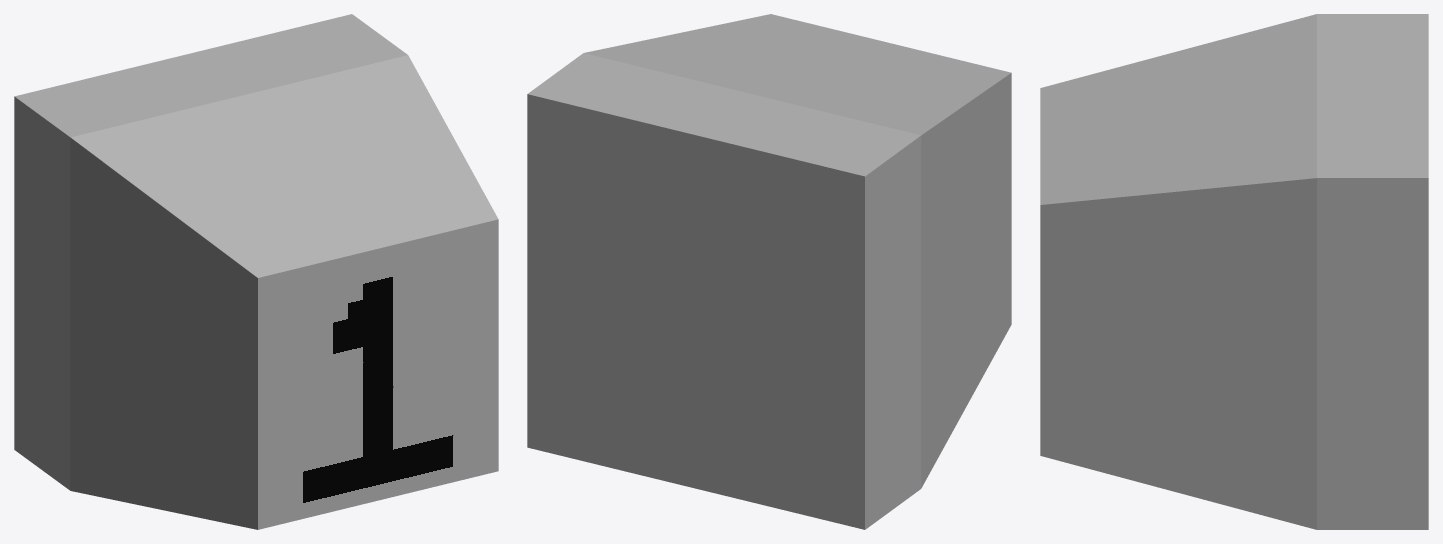
The model's file is lockbtn.glb.
3 views of the same model, side by side, from view 1: azimuth 30°, elevation 25°; view 2: azimuth 150°, elevation 25°; view 3: azimuth 270°, elevation 25° (orthographic).
Parts seen in each view (by area): view 1: Cube.001; view 2: Cube.001; view 3: Cube.001.
Boxes of the visible parts, box(x1,y1,x2,y2) form: Cube.001: box(14, 14, 498, 529); Cube.001: box(527, 14, 1011, 529); Cube.001: box(1040, 14, 1428, 529).
Bounding box in the file's own units: 0.0621 × 0.0621 × 0.0621.
1 material, 1 textured.
